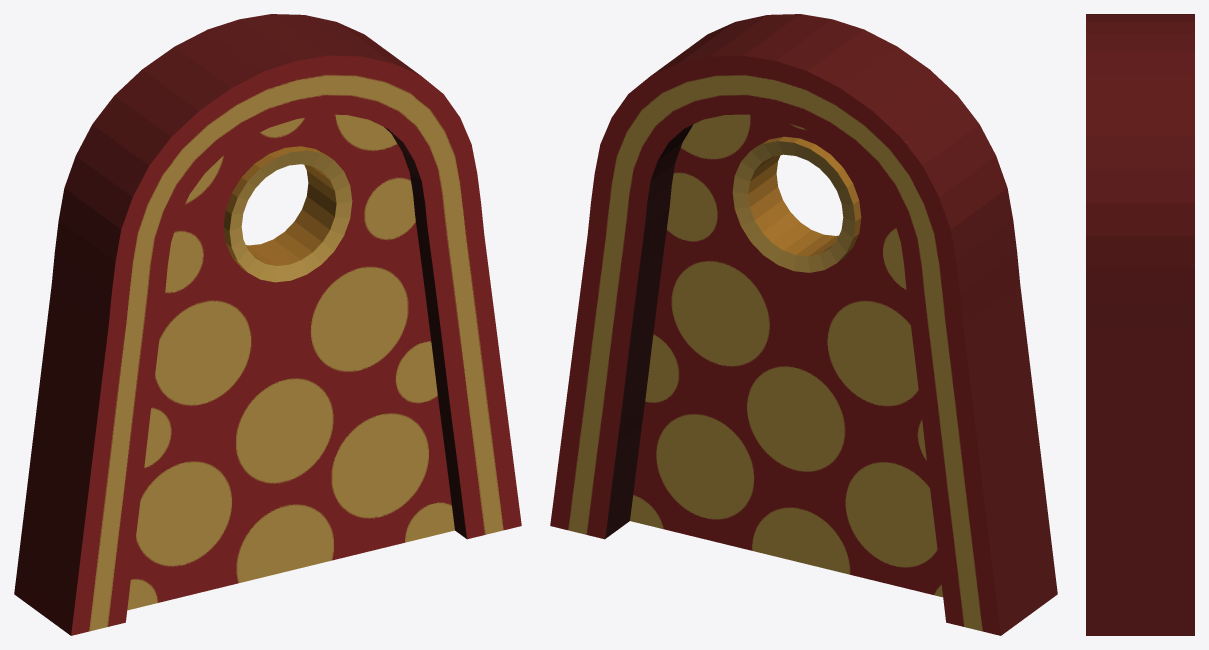
File: clownDoor.fbx
3 renders of one model, left to right at view 1: azimuth 30°, elevation 25°; view 2: azimuth 150°, elevation 25°; view 3: azimuth 270°, elevation 25°, orthographic. The views are drawn at different scales.
Visible parts, largest first — view 1: ClownDoor; view 2: ClownDoor; view 3: ClownDoor.
Boxes of the visible parts, x1,y1,x2,y2 form: ClownDoor: [14, 14, 521, 635]; ClownDoor: [550, 14, 1057, 635]; ClownDoor: [1086, 14, 1194, 635].
Bounding box in the file's own units: 274 × 302 × 60.
Materials: 1 (1 with a texture image).
